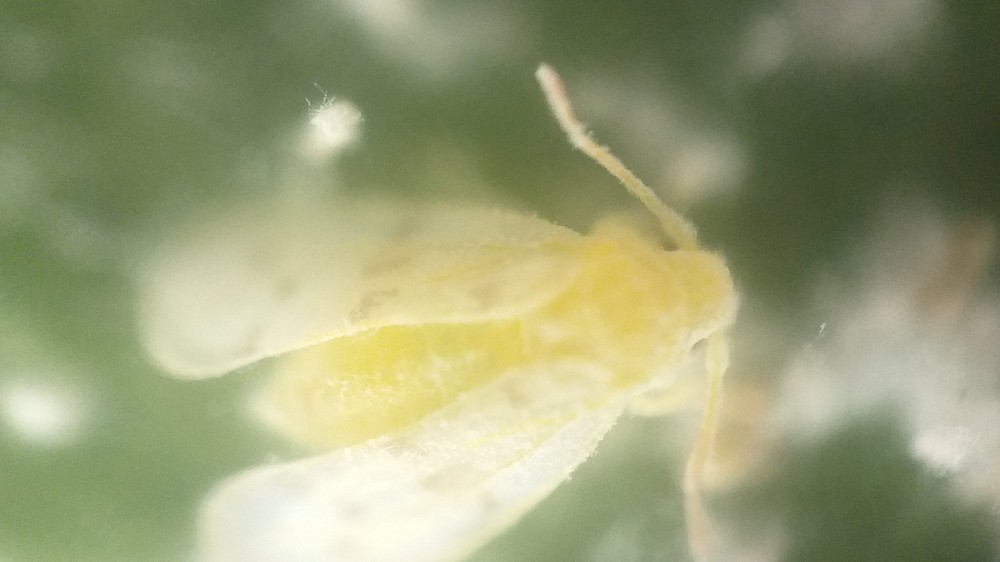Mosca Blanca: (132, 57, 767, 559)
